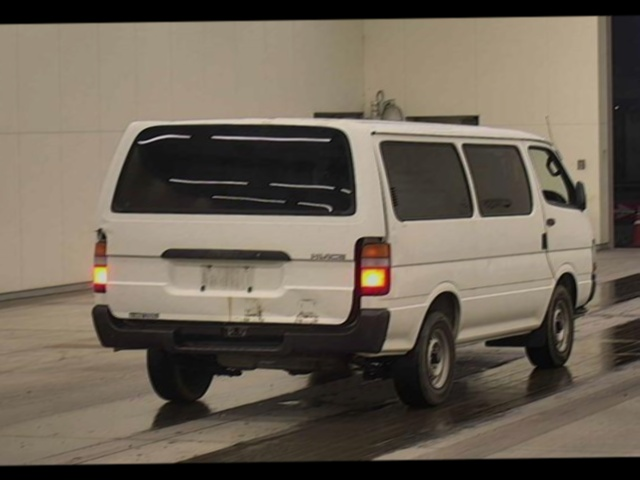van: (89, 112, 598, 405)
